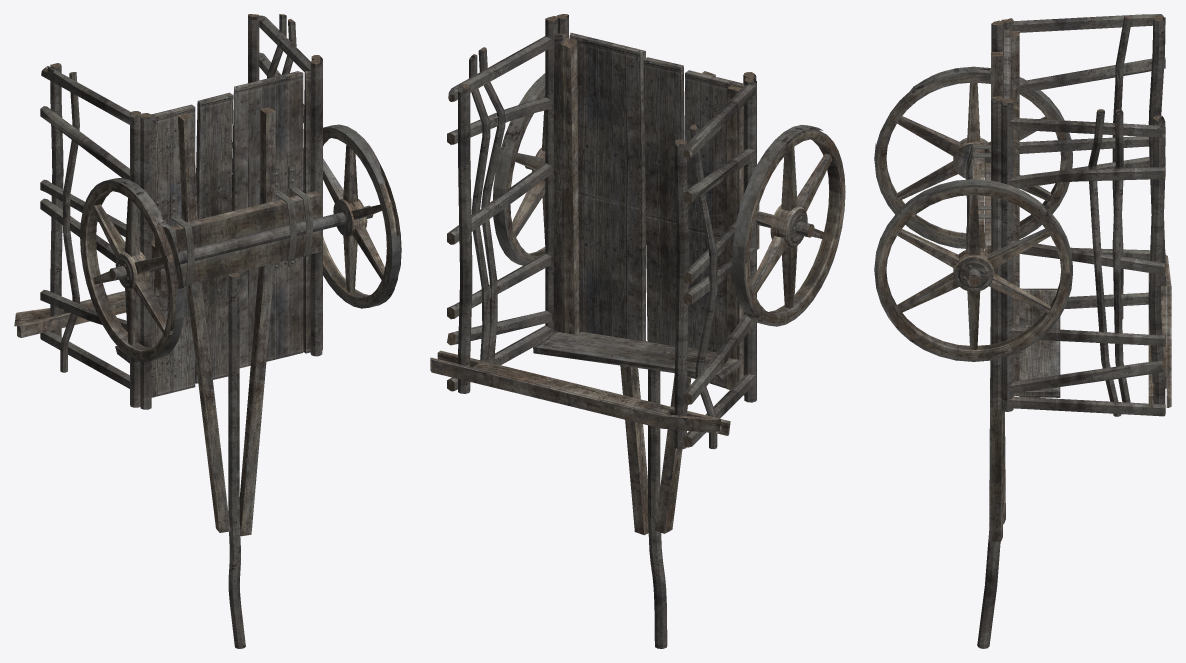
The model's file is Wagon3_Origin.fbx.
3 views of the same model, side by side, from view 1: azimuth 30°, elevation 25°; view 2: azimuth 150°, elevation 25°; view 3: azimuth 270°, elevation 25° (orthographic). The views are drawn at different scales.
Visible parts, largest first — view 1: SM_Wagon03_DM.001, SM_Wagon03_DM.011, SM_Wagon03_DM.022, SM_Wagon03_DM.017, SM_Wagon03_DM.013, SM_Wagon03_DM.015, SM_Wagon03_DM.019, SM_Wagon03_DM.016, SM_Wagon03_DM.010, SM_Wagon03_DM.008, SM_Wagon03_DM.006, SM_Wagon03_DM.012 (+8 smaller); view 2: SM_Wagon03_DM.017, SM_Wagon03_DM.011, SM_Wagon03_DM.020, SM_Wagon03_DM.015, SM_Wagon03_DM.019, SM_Wagon03_DM.010, SM_Wagon03_DM.016, SM_Wagon03_DM.009, SM_Wagon03_DM.013, SM_Wagon03_DM.022, SM_Wagon03_DM.024, SM_Wagon03_DM.008 (+10 smaller); view 3: SM_Wagon03_DM.001, SM_Wagon03_DM.009, SM_Wagon03_DM.017, SM_Wagon03_DM.022, SM_Wagon03_DM.020, SM_Wagon03_DM.019, SM_Wagon03_DM.023, SM_Wagon03_DM.016, SM_Wagon03_DM.011, SM_Wagon03_DM.010, SM_Wagon03_DM.004, SM_Wagon03_DM.008 (+6 smaller).
Boxes of the visible parts, x1=… form: SM_Wagon03_DM.001: x1=272, y1=142, x2=401, y2=308; SM_Wagon03_DM.011: x1=69, y1=72, x2=283, y2=181; SM_Wagon03_DM.022: x1=114, y1=155, x2=199, y2=358; SM_Wagon03_DM.017: x1=248, y1=14, x2=362, y2=182; SM_Wagon03_DM.013: x1=162, y1=200, x2=278, y2=294; SM_Wagon03_DM.015: x1=177, y1=123, x2=296, y2=212; SM_Wagon03_DM.019: x1=40, y1=63, x2=115, y2=282; SM_Wagon03_DM.016: x1=264, y1=236, x2=356, y2=380; SM_Wagon03_DM.010: x1=66, y1=80, x2=170, y2=301; SM_Wagon03_DM.008: x1=14, y1=259, x2=128, y2=383; SM_Wagon03_DM.006: x1=203, y1=380, x2=264, y2=520; SM_Wagon03_DM.012: x1=121, y1=331, x2=211, y2=409; SM_Wagon03_DM.017: x1=448, y1=14, x2=609, y2=170; SM_Wagon03_DM.011: x1=590, y1=38, x2=756, y2=155; SM_Wagon03_DM.020: x1=430, y1=211, x2=568, y2=403; SM_Wagon03_DM.015: x1=567, y1=85, x2=708, y2=203; SM_Wagon03_DM.019: x1=674, y1=128, x2=759, y2=356; SM_Wagon03_DM.010: x1=704, y1=115, x2=813, y2=287; SM_Wagon03_DM.016: x1=503, y1=236, x2=620, y2=367; SM_Wagon03_DM.009: x1=447, y1=73, x2=567, y2=226; SM_Wagon03_DM.013: x1=603, y1=182, x2=720, y2=260; SM_Wagon03_DM.022: x1=757, y1=124, x2=845, y2=277; SM_Wagon03_DM.024: x1=577, y1=256, x2=658, y2=368; SM_Wagon03_DM.008: x1=674, y1=315, x2=783, y2=449; SM_Wagon03_DM.001: x1=874, y1=182, x2=1033, y2=360; SM_Wagon03_DM.009: x1=950, y1=164, x2=1165, y2=308; SM_Wagon03_DM.017: x1=951, y1=93, x2=1165, y2=221; SM_Wagon03_DM.022: x1=874, y1=66, x2=990, y2=230; SM_Wagon03_DM.020: x1=1038, y1=239, x2=1171, y2=400; SM_Wagon03_DM.019: x1=1024, y1=14, x2=1165, y2=223; SM_Wagon03_DM.023: x1=991, y1=367, x2=1171, y2=416; SM_Wagon03_DM.016: x1=957, y1=298, x2=1071, y2=401; SM_Wagon03_DM.011: x1=991, y1=15, x2=1131, y2=125; SM_Wagon03_DM.010: x1=979, y1=15, x2=1117, y2=191; SM_Wagon03_DM.004: x1=977, y1=504, x2=1004, y2=648; SM_Wagon03_DM.008: x1=1031, y1=219, x2=1170, y2=319.
Bounding box in the file's own units: 20269 × 40433 × 18425.
